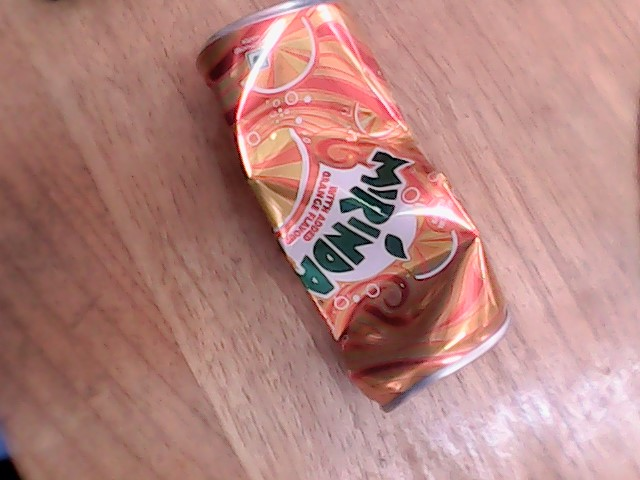Metal: (172, 23, 520, 414)
